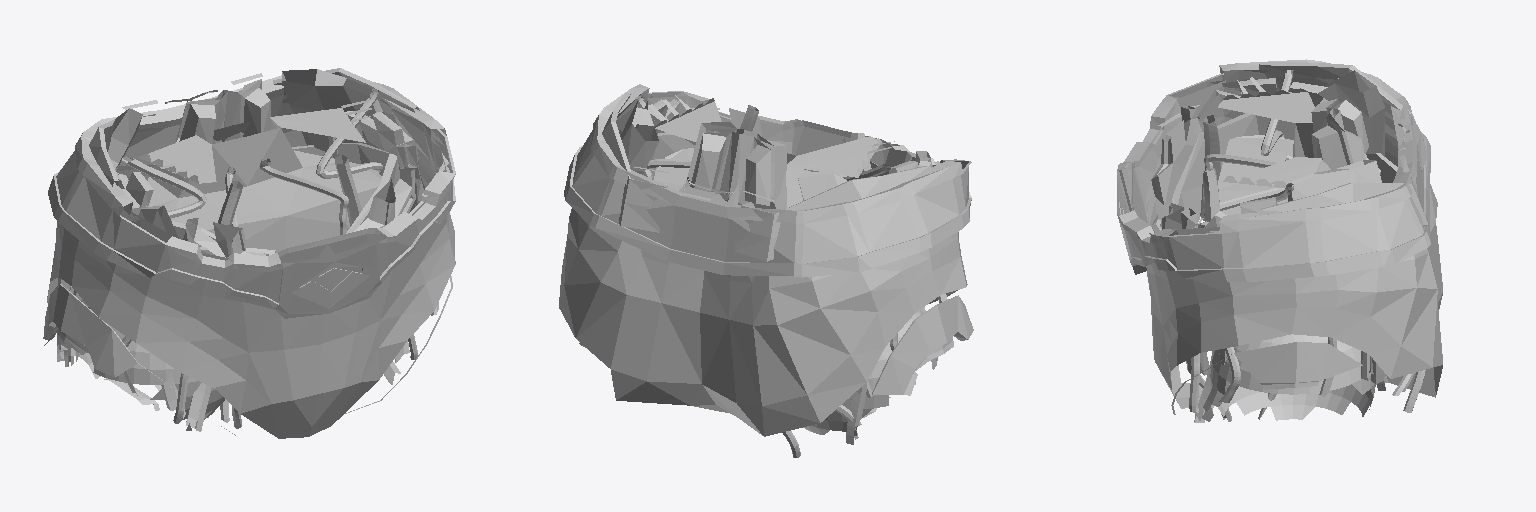
The model's file is bottom.obj.
The picture shows the model from 3 angles: view 1: azimuth 30°, elevation 25°; view 2: azimuth 150°, elevation 25°; view 3: azimuth 270°, elevation 25°; orthographic projection.
Visible parts, largest first — view 1: androide_pra_vender:Object024; view 2: androide_pra_vender:Object024; view 3: androide_pra_vender:Object024.
Part boxes in pixels (x1,y1,x2,y2): androide_pra_vender:Object024: (43, 68, 455, 438); androide_pra_vender:Object024: (559, 84, 973, 457); androide_pra_vender:Object024: (1117, 59, 1442, 422).
Bounding box in the file's own units: 0.4807 × 0.3659 × 0.3633.